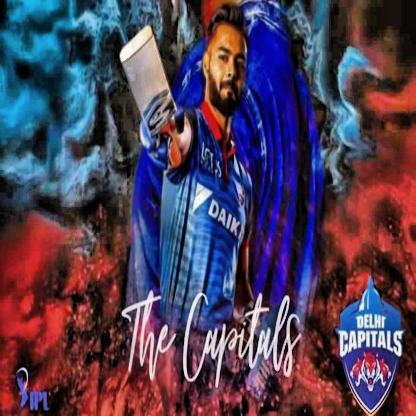Delhi Capitals: (333, 271, 408, 416)
